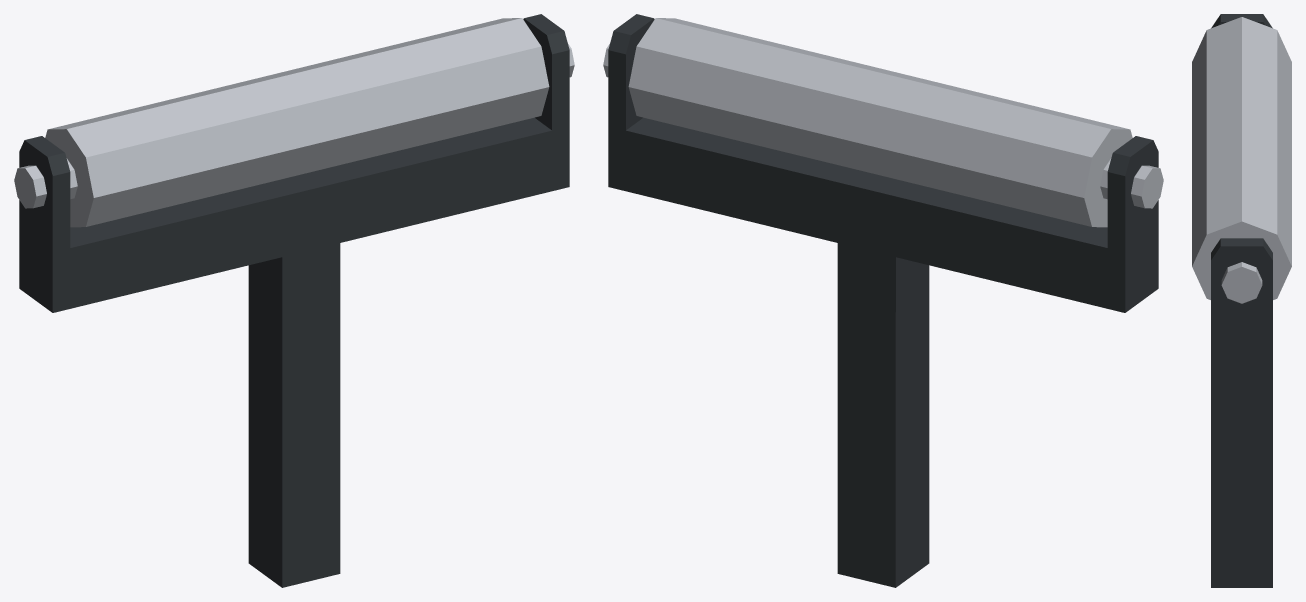
The model's file is SM_Prop_Portable_Saw_Stand_01_Roller_1.obj.
The picture shows the model from 3 angles, left to right: view 1: azimuth 30°, elevation 25°; view 2: azimuth 150°, elevation 25°; view 3: azimuth 270°, elevation 25°; orthographic projection. The views are drawn at different scales.
Visible parts, largest first — view 1: SM_Prop_Portable_Saw_Stand_01_Roller_1_0; view 2: SM_Prop_Portable_Saw_Stand_01_Roller_1_0; view 3: SM_Prop_Portable_Saw_Stand_01_Roller_1_0.
Boxes of the visible parts, x1,y1,x2,y2 form: SM_Prop_Portable_Saw_Stand_01_Roller_1_0: [14, 14, 574, 587]; SM_Prop_Portable_Saw_Stand_01_Roller_1_0: [603, 14, 1163, 587]; SM_Prop_Portable_Saw_Stand_01_Roller_1_0: [1192, 14, 1291, 587].
Size of the model in its own units: 0.4 by 0.3515 by 0.0698.
Materials: 1 (1 with a texture image).
